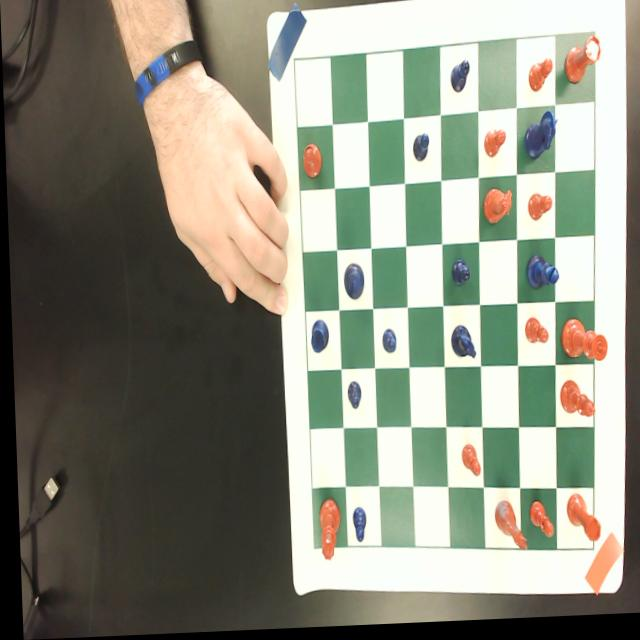B: (523, 257, 558, 295)
K: (341, 266, 362, 305)
N: (522, 114, 558, 165), (448, 328, 474, 364)
P: (449, 62, 470, 99), (410, 135, 429, 168), (448, 261, 469, 290), (348, 509, 363, 546), (343, 383, 359, 413), (379, 331, 394, 358)
R: (308, 321, 327, 357)
b: (556, 382, 592, 423), (300, 143, 323, 182)
k: (557, 321, 606, 368)
n: (490, 501, 524, 556), (481, 186, 512, 229)
p: (524, 504, 550, 545), (527, 61, 553, 98), (481, 132, 506, 164), (521, 321, 547, 351), (526, 197, 552, 226), (457, 448, 478, 482)
q: (314, 501, 338, 565)
r: (563, 38, 602, 92), (561, 497, 597, 550)
